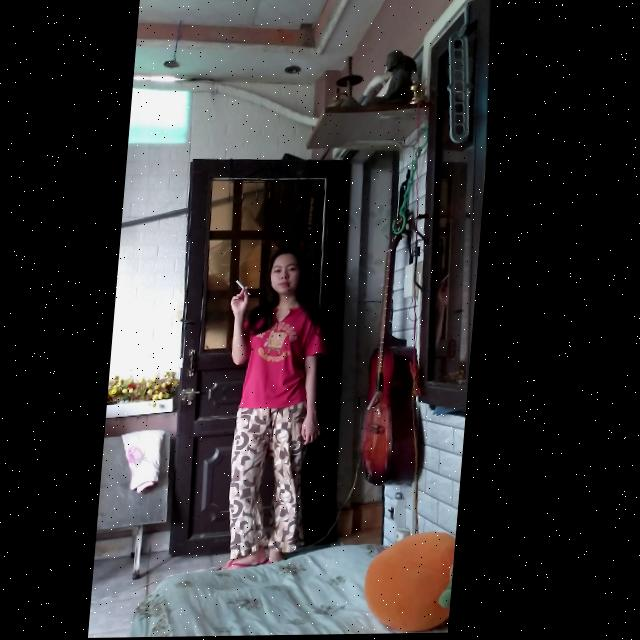cigarette: (240, 281, 257, 296)
